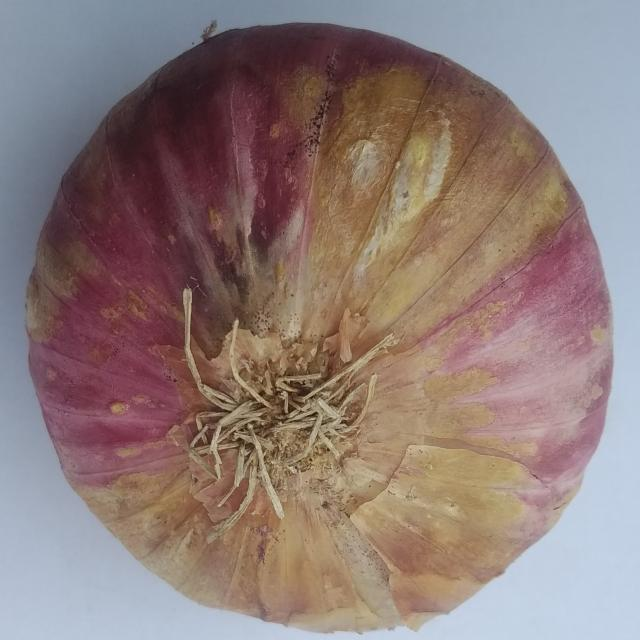onion: (23, 19, 616, 635)
